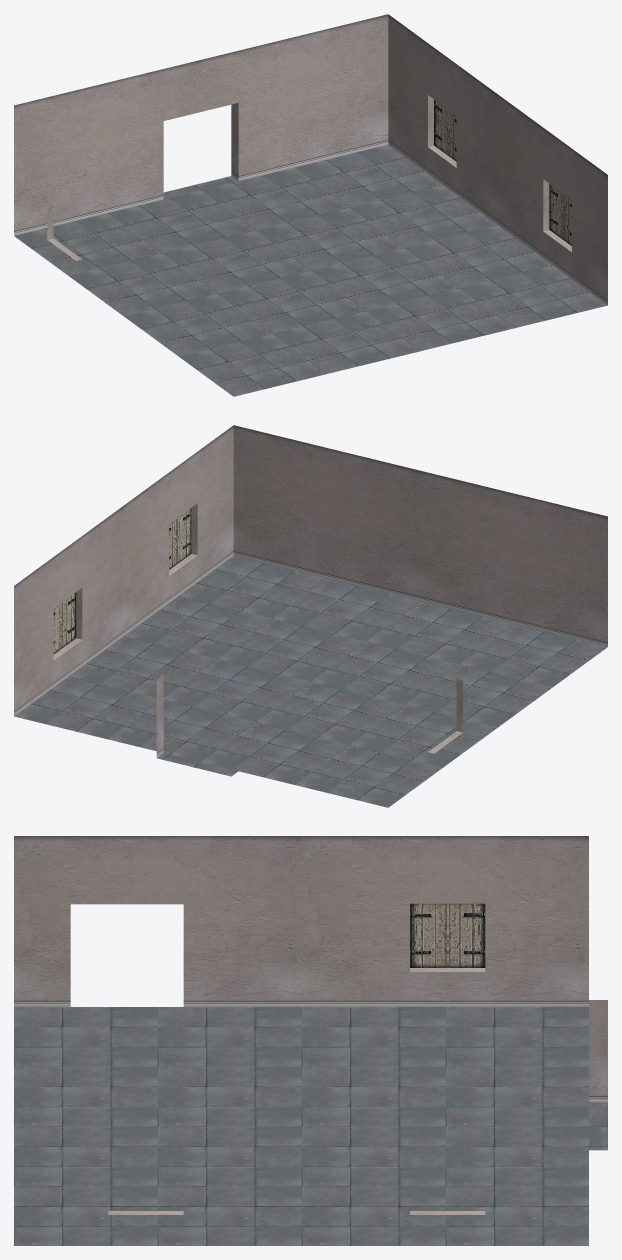
The model's file is BarracksIntB.glb.
The picture shows the model from 3 angles, top to bottom: view 1: azimuth 30°, elevation 25°; view 2: azimuth 150°, elevation 25°; view 3: azimuth 270°, elevation 25°; orthographic projection. The views are drawn at different scales.
Parts seen in each view (by area): view 1: BARRACKSINTB; view 2: BARRACKSINTB; view 3: BARRACKSINTB.
Boxes of the visible parts, x1,y1,x2,y2 form: BARRACKSINTB: [14, 14, 607, 396]; BARRACKSINTB: [14, 425, 607, 807]; BARRACKSINTB: [14, 836, 607, 1245].
Bounding box in the file's own units: 15.5 × 5 × 15.75.
Materials: 4 (4 with a texture image).
